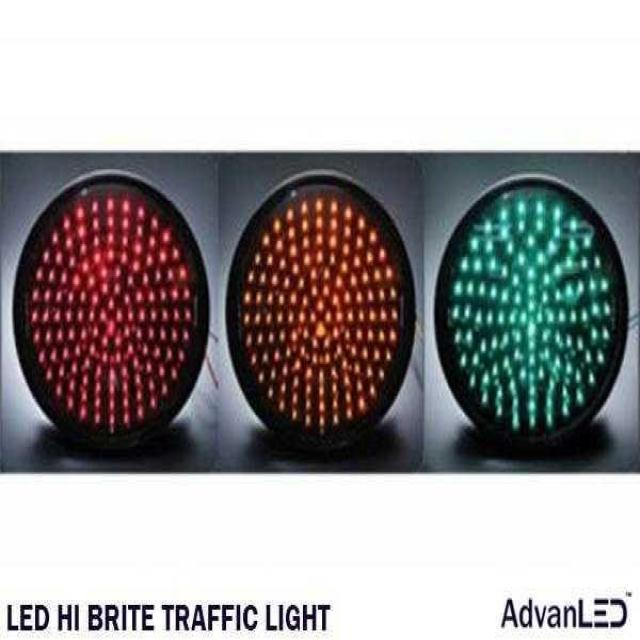Traffic Light -Green-: (432, 146, 639, 482)
Traffic Light -Red-: (2, 144, 216, 479)
Traffic Light -Yellow-: (226, 144, 425, 477)
